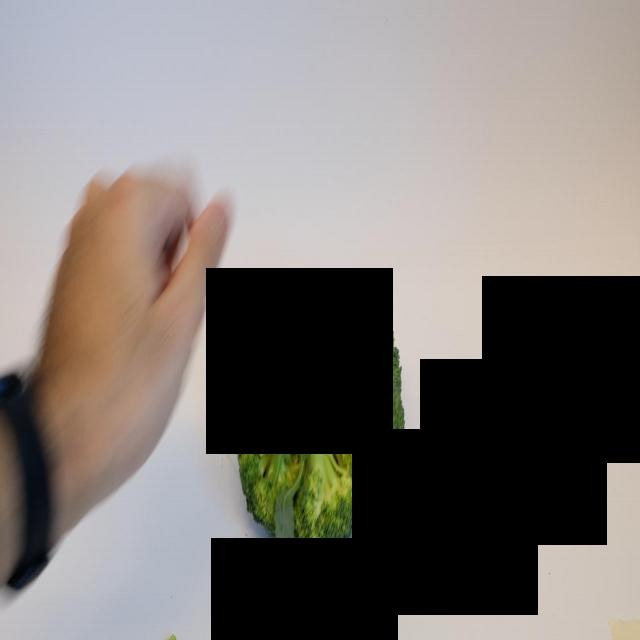broccoli: (236, 272, 407, 562)
